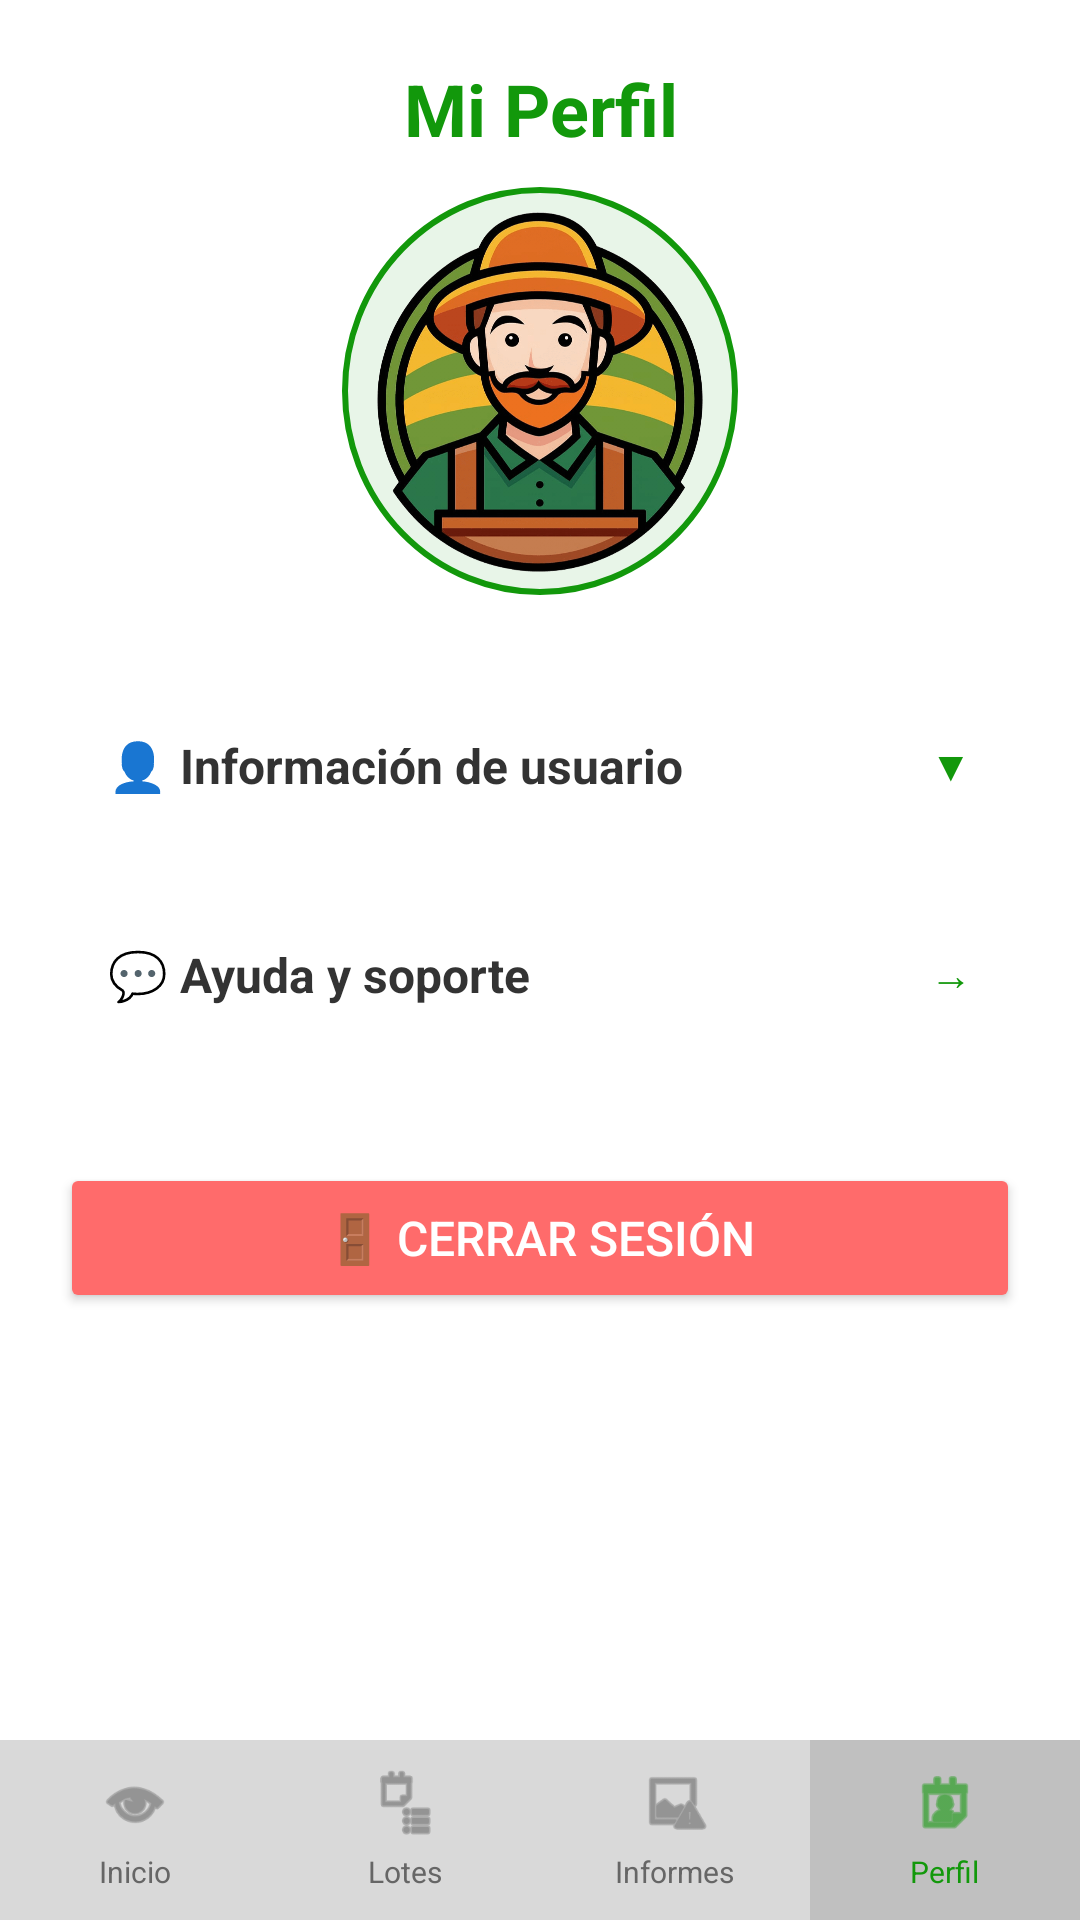

Screen size 1080*1920. Icon name, then its center in pixels as [x,y]:
agenda: [405,1802]
calendar: [945,1802]
view: [135,1805]
